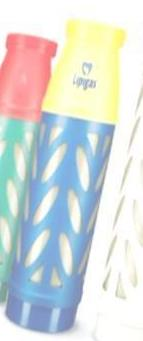cylinder: (1, 0, 143, 341)
